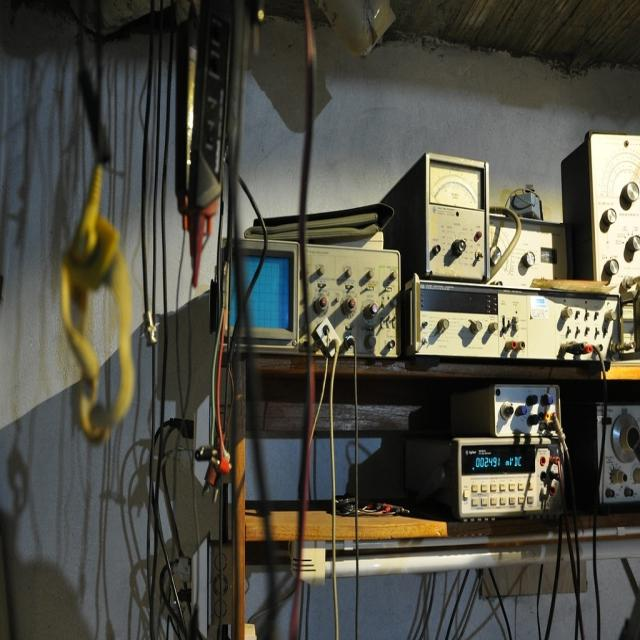E-waste: (22, 22, 640, 639)
